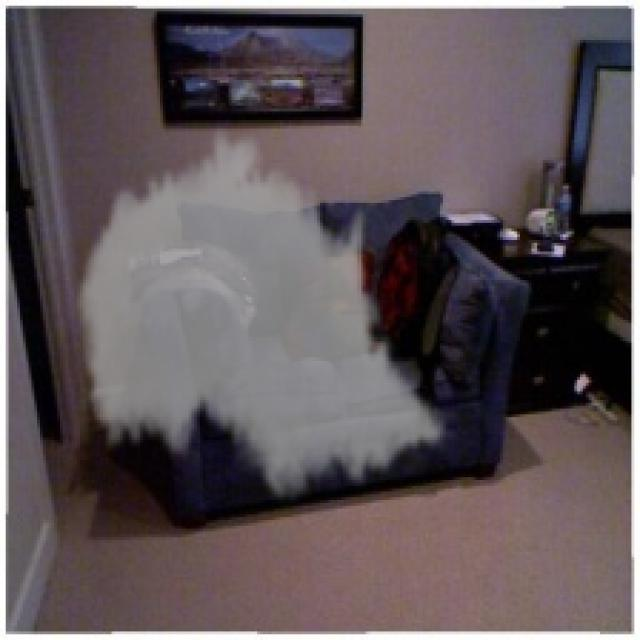smoke: (71, 123, 448, 511)
